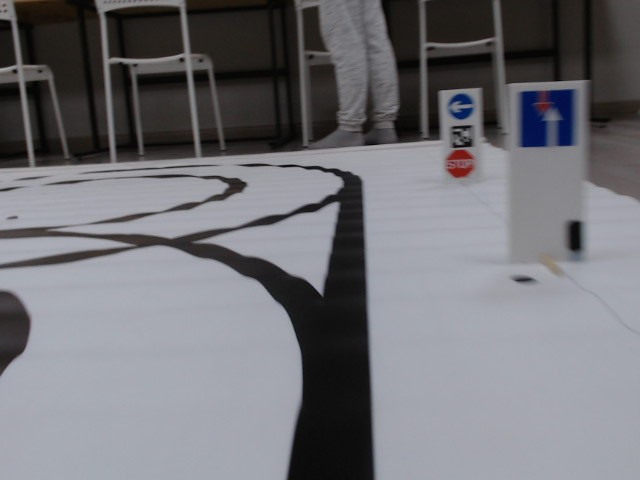priority_movement: (513, 85, 579, 150)
